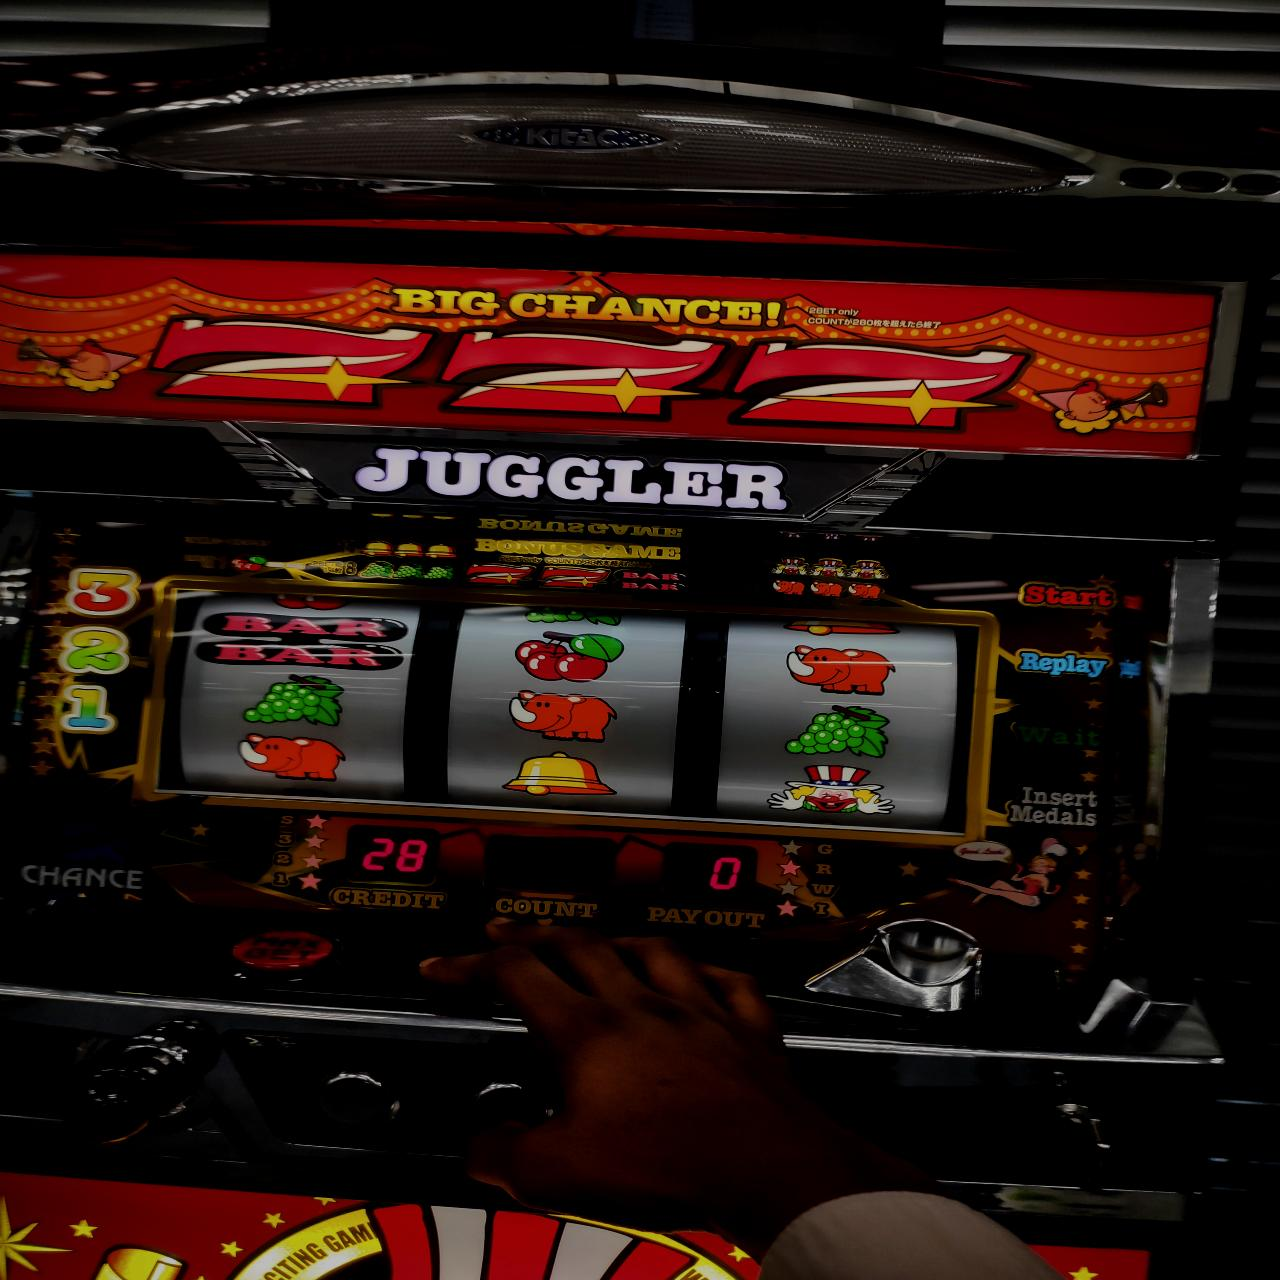8: (787, 642, 899, 695), (238, 731, 346, 781), (511, 692, 618, 741)
Display: (168, 586, 965, 839)
bar: (200, 611, 406, 669)
bell: (502, 753, 617, 797)
cherry: (513, 629, 625, 680)
clown: (764, 762, 896, 816)
grape: (783, 703, 892, 758), (245, 673, 347, 726)
